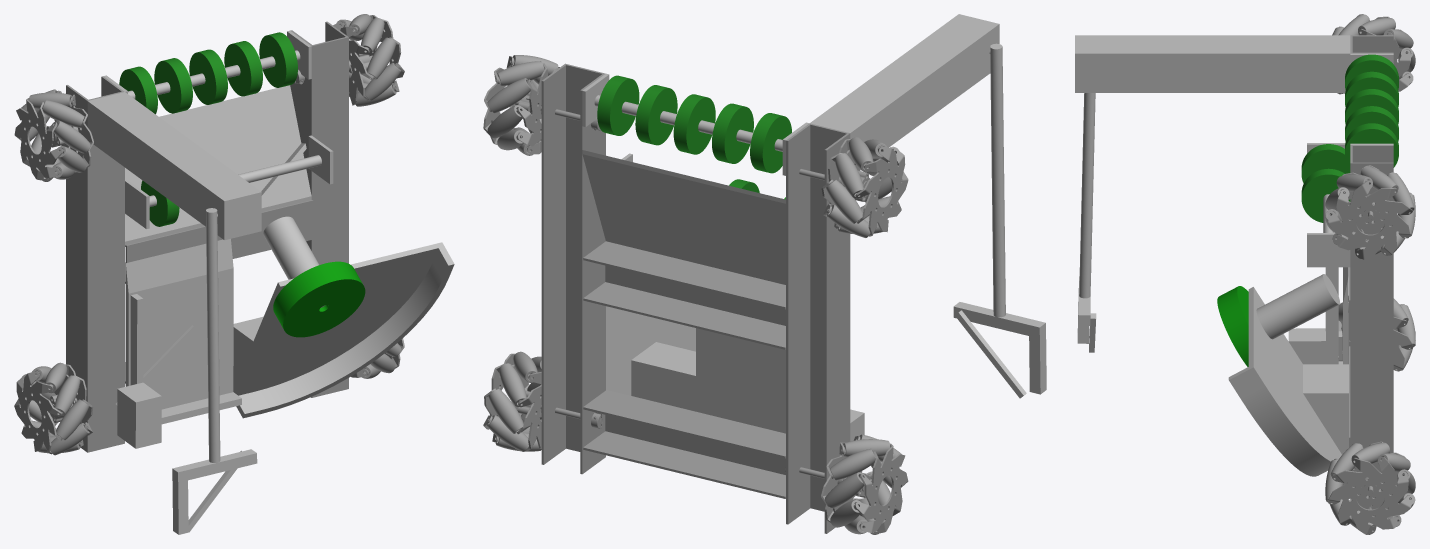
File: robot2.fbx
3 renders of one model, left to right at view 1: azimuth 30°, elevation 25°; view 2: azimuth 150°, elevation 25°; view 3: azimuth 270°, elevation 25°, orthographic. The views are drawn at different scales.
Parts seen in each view (by area): view 1: Body1 (×33), Body2; view 2: Body1 (×31), Body2; view 3: Body1 (×27), Body2.
Part boxes in pixels (<box>): Body1 (×33): <box>14,15,454,534</box>; Body2: <box>66,76,124,452</box>; Body1 (×31): <box>483,14,1046,533</box>; Body2: <box>786,123,850,533</box>; Body1 (×27): <box>1075,18,1414,534</box>; Body2: <box>1350,35,1393,53</box>.
Size of the model in its own units: 451 by 442 by 377.
